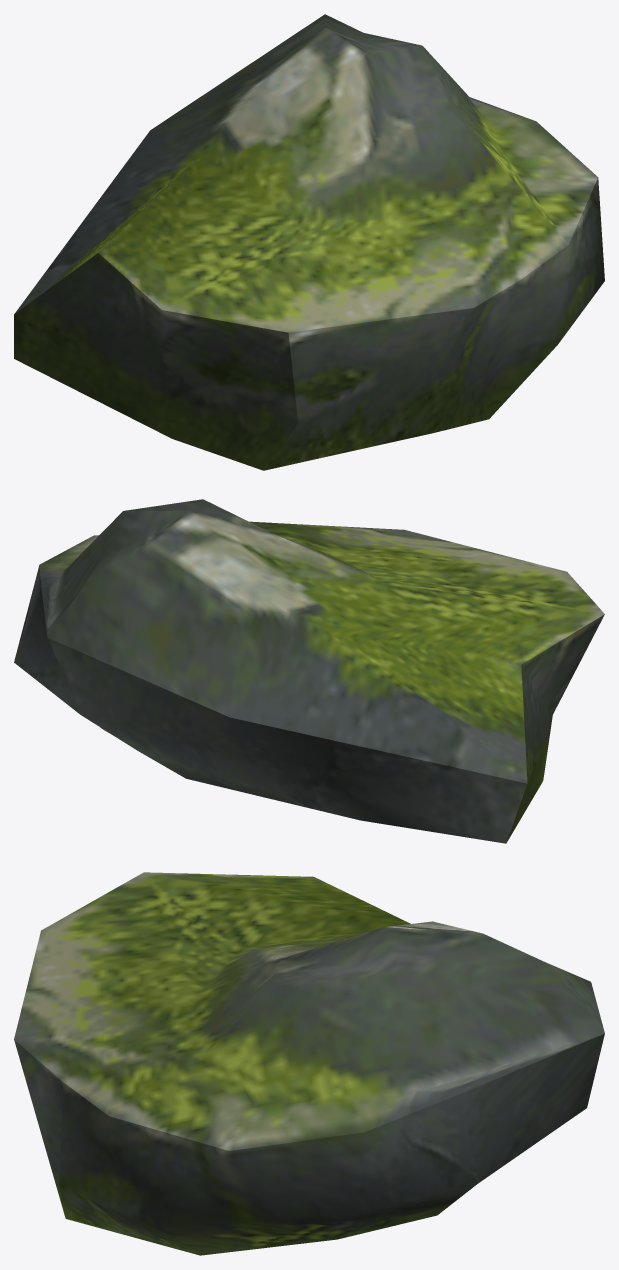
Rendered from 4002_Item_shitou_1.FBX.
3 views of the same model, one above another, from view 1: azimuth 30°, elevation 25°; view 2: azimuth 150°, elevation 25°; view 3: azimuth 270°, elevation 25° (orthographic). The views are drawn at different scales.
Visible parts, largest first — view 1: 4002_Item_shitou_1; view 2: 4002_Item_shitou_1; view 3: 4002_Item_shitou_1.
Part boxes in pixels (box(x1,y1,x2,y2)): 4002_Item_shitou_1: box(14, 14, 604, 470); 4002_Item_shitou_1: box(14, 499, 604, 843); 4002_Item_shitou_1: box(14, 872, 604, 1255).
Size of the model in its own units: 1403 by 706 by 1220.
